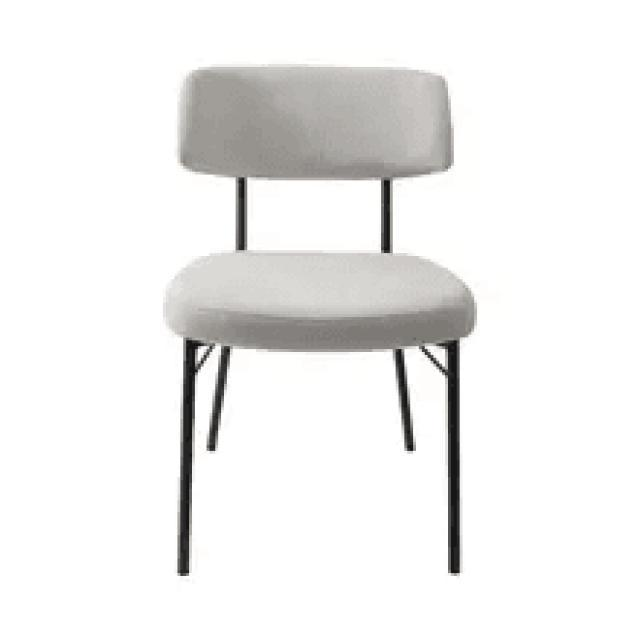chair: (156, 59, 485, 578), (158, 66, 476, 356)
